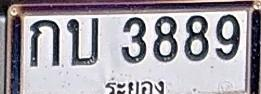3: (121, 16, 146, 63)
8: (153, 16, 177, 62), (184, 14, 208, 60)
9: (216, 13, 240, 60)
A01: (30, 19, 59, 66)
A26: (66, 17, 98, 65)
RYG: (101, 77, 170, 94)
